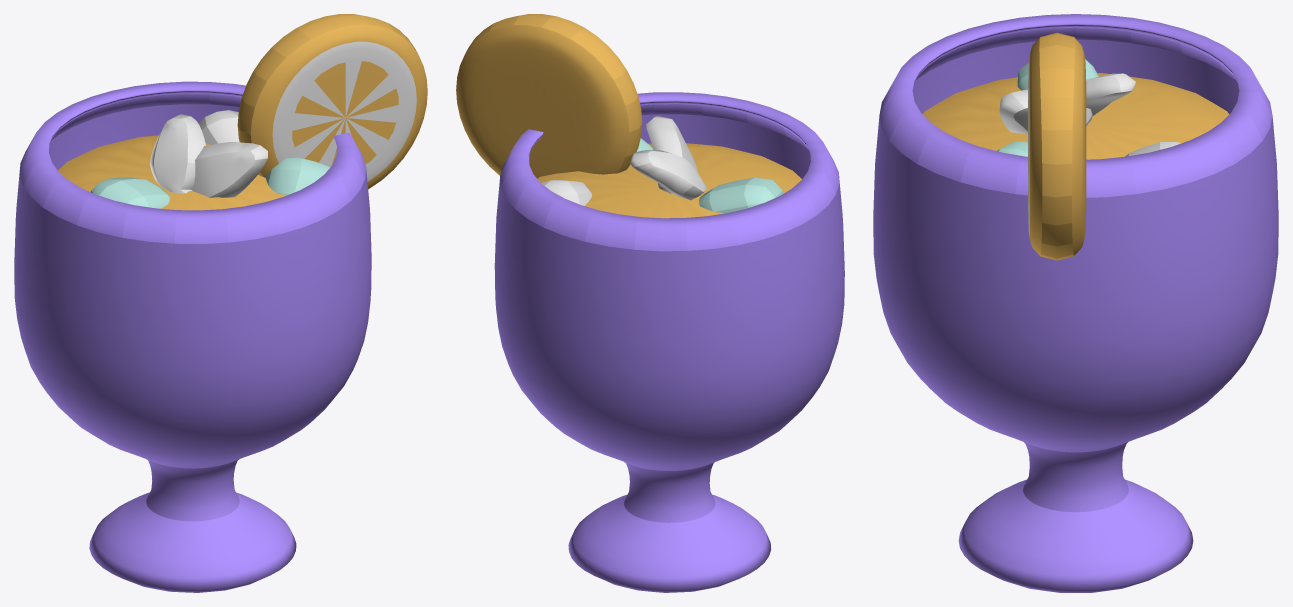
File: Lemonade.fbx
The picture shows the model from 3 angles, left to right: view 1: azimuth 30°, elevation 25°; view 2: azimuth 150°, elevation 25°; view 3: azimuth 270°, elevation 25°; orthographic projection. The views are drawn at different scales.
Visible parts, largest first — view 1: Lemonade; view 2: Lemonade; view 3: Lemonade.
Boxes of the visible parts, x1,y1,x2,y2 form: Lemonade: (14,14,427,592); Lemonade: (456,14,844,592); Lemonade: (873,14,1278,592).
Bounding box in the file's own units: 206 × 267 × 169.
